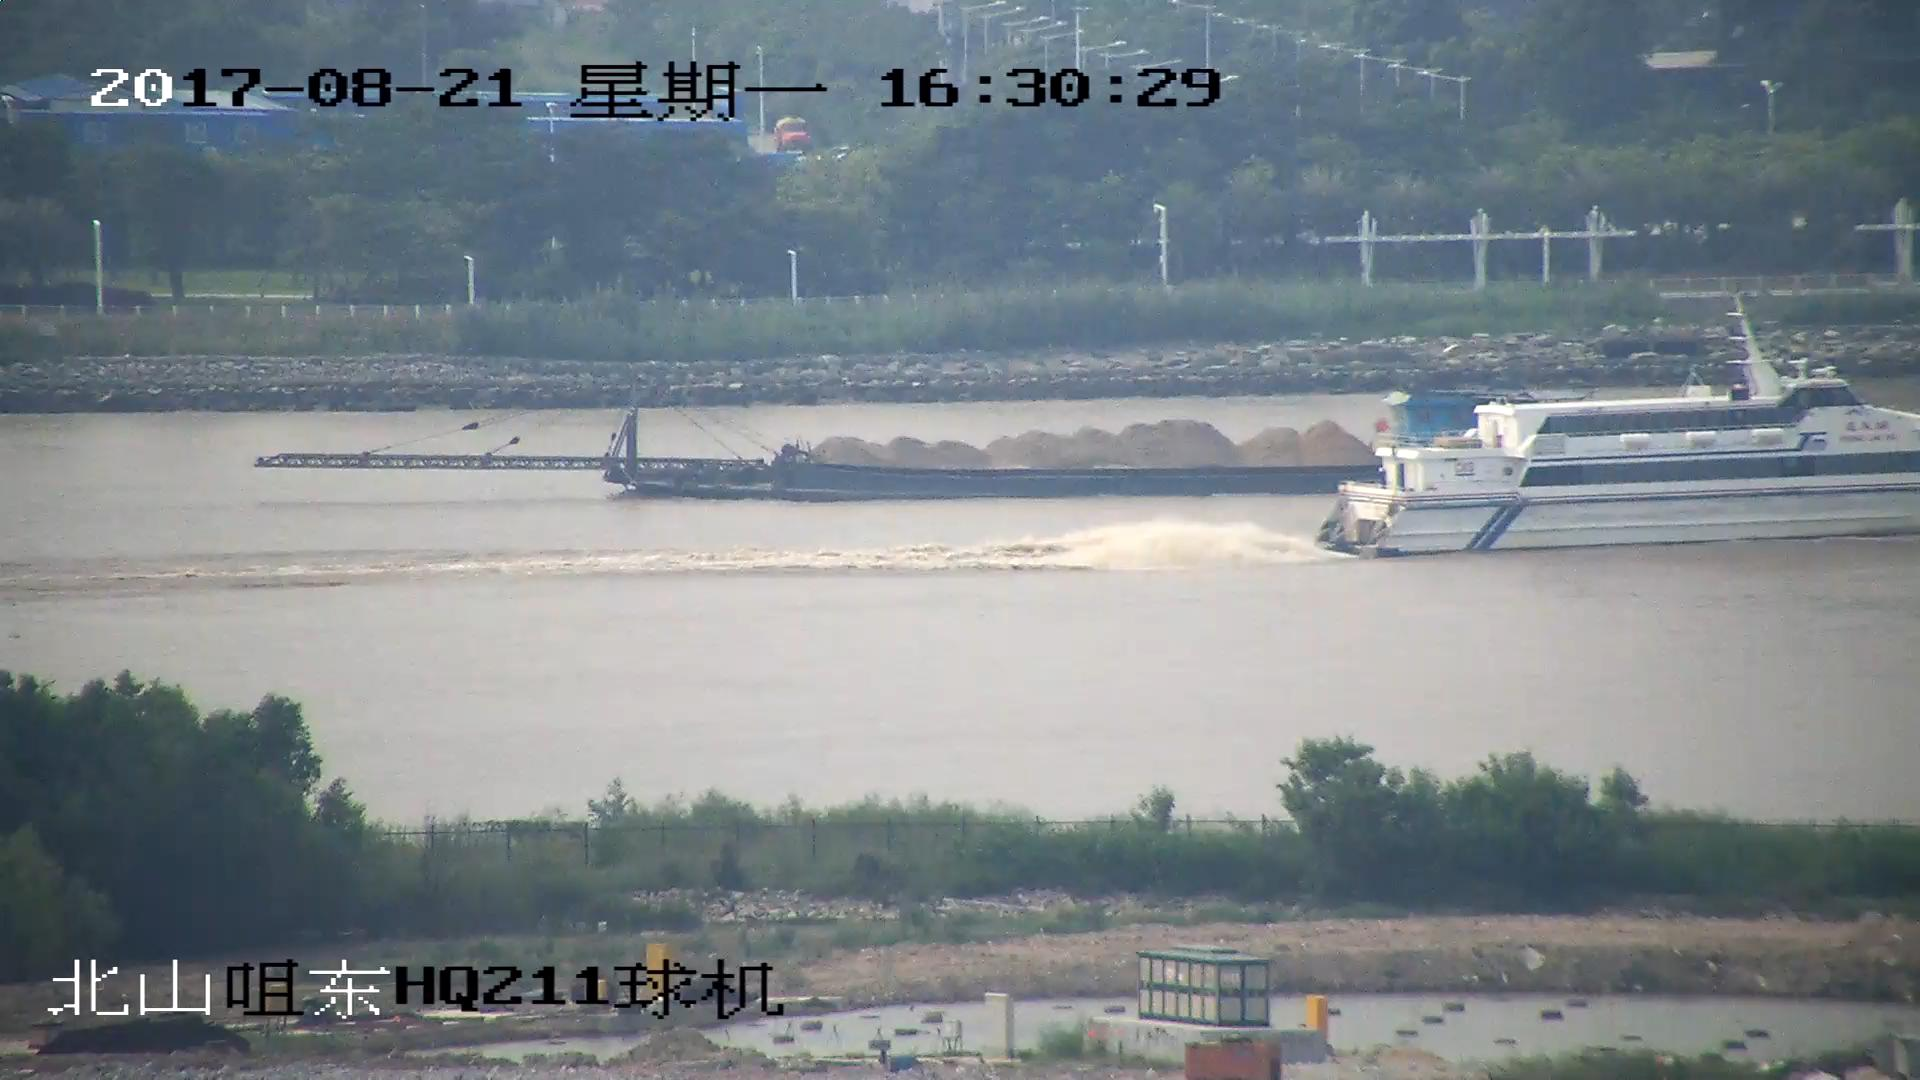ore carrier: (265, 373, 1391, 503)
passenger ship: (1321, 293, 1920, 553)
